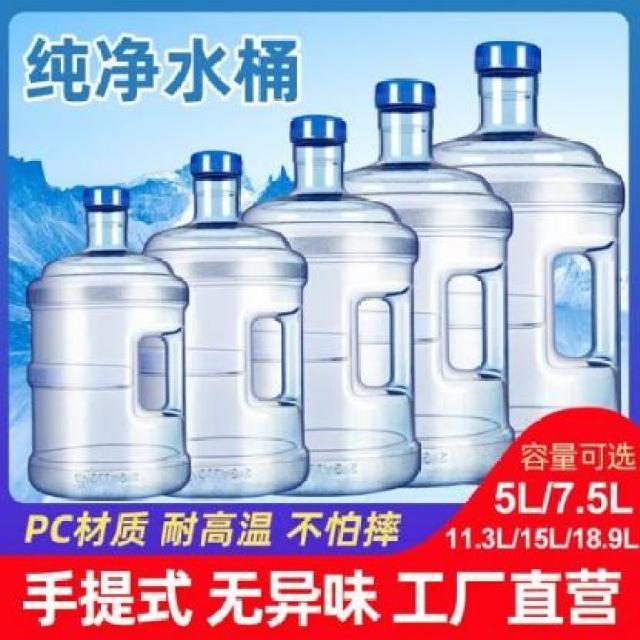coolerbottle: (24, 182, 196, 504)
